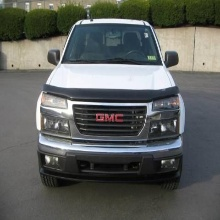no damage: (33, 17, 186, 191)
